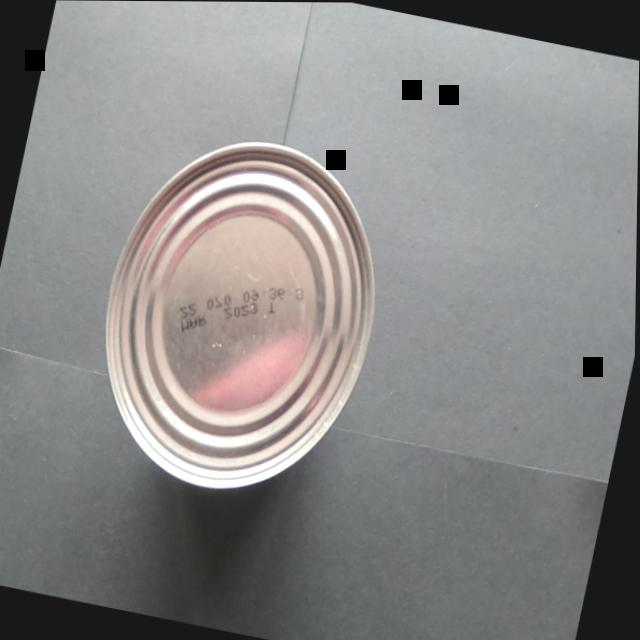Buttermilk: (61, 97, 416, 541)
